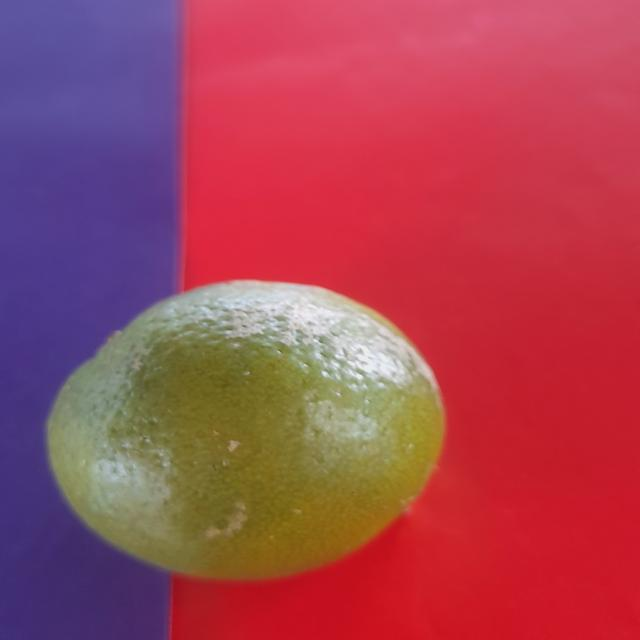thrips: (51, 277, 463, 568)
